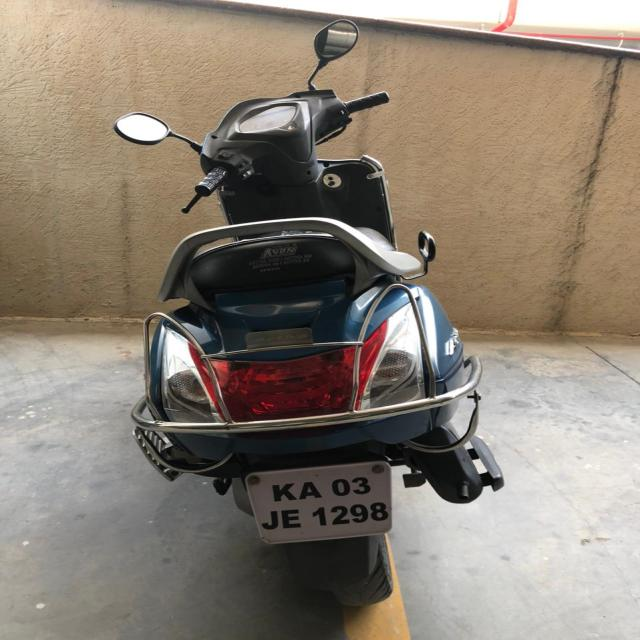number plate: (242, 459, 393, 545)
